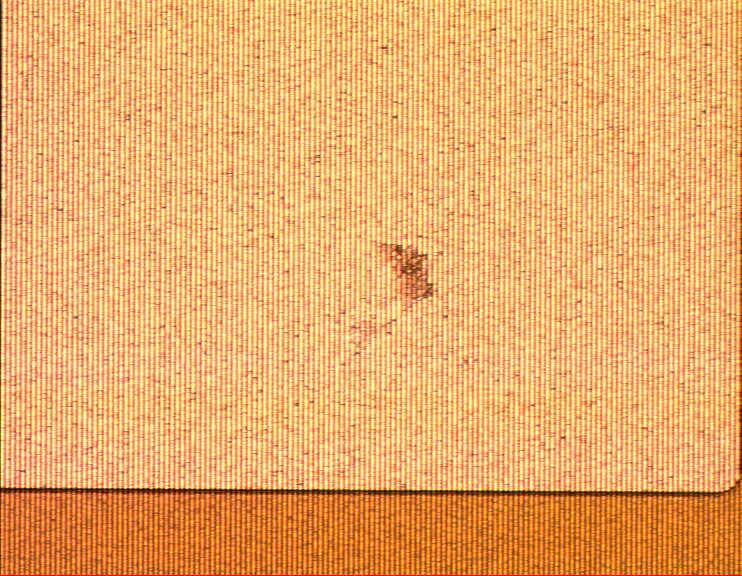SCRATCH: (327, 218, 459, 360)
